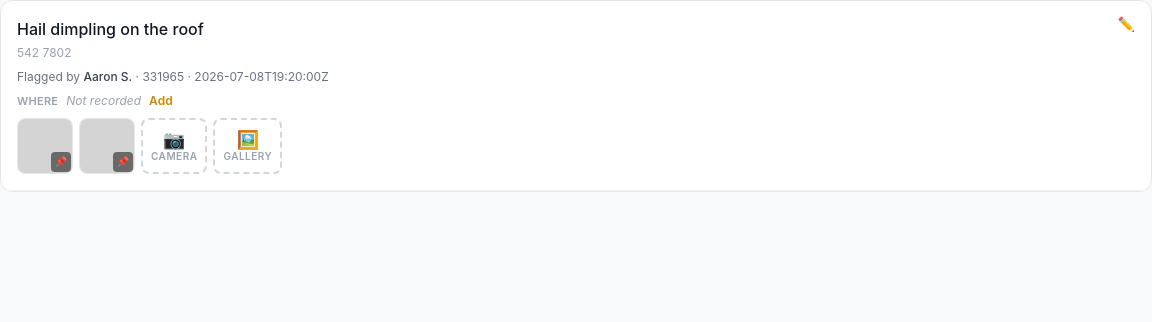
HoldRecordCard — destructive edits › hides the controls until you enter edit mode
Expected: the text "Delete hold" is not shown
Click the button named "Edit this hold" at [1126, 24], box [1118,17,1135,31]
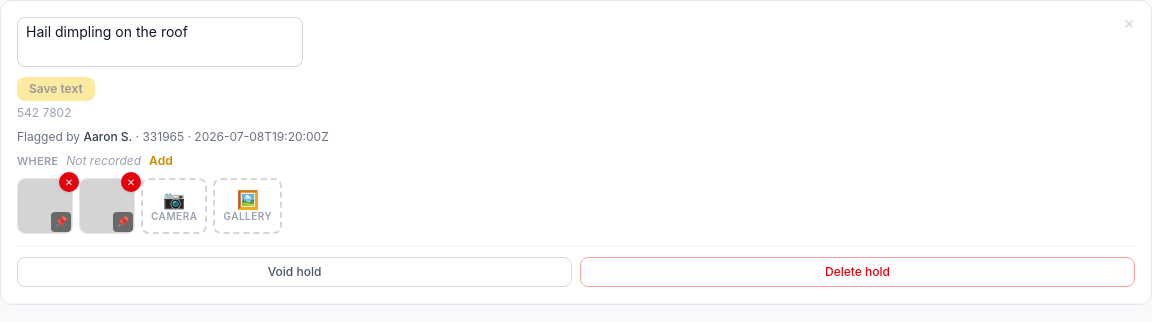
Now the button "Delete hold" is shown, box [580,256,1135,286]
Now the button "Void hold" is shown, box [17,256,572,286]
